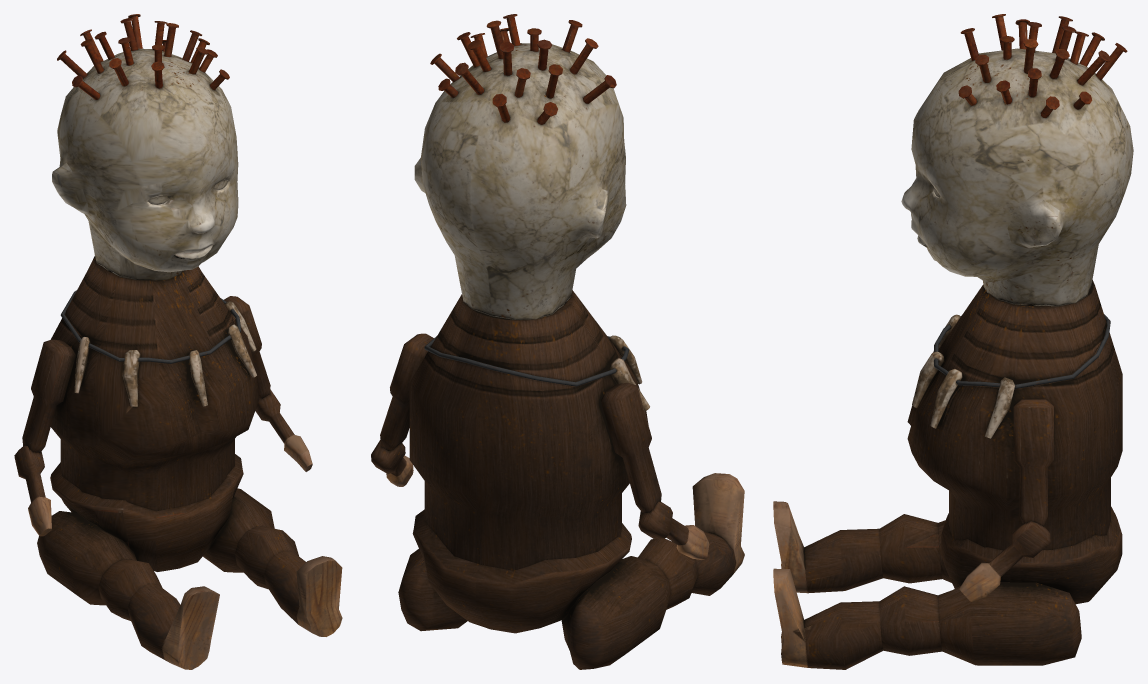
Rendered from Doll.fbx.
3 views of the same model, side by side, from view 1: azimuth 30°, elevation 25°; view 2: azimuth 150°, elevation 25°; view 3: azimuth 270°, elevation 25° (orthographic). The views are drawn at different scales.
Parts seen in each view (by area): view 1: Mixamo2:Mesh; view 2: Mixamo2:Mesh; view 3: Mixamo2:Mesh.
Part boxes in pixels (<box>): Mixamo2:Mesh: <box>14,14,342,669</box>; Mixamo2:Mesh: <box>371,14,744,669</box>; Mixamo2:Mesh: <box>773,14,1133,669</box>.
Size of the model in its own units: 51.85 by 98.06 by 53.37.
